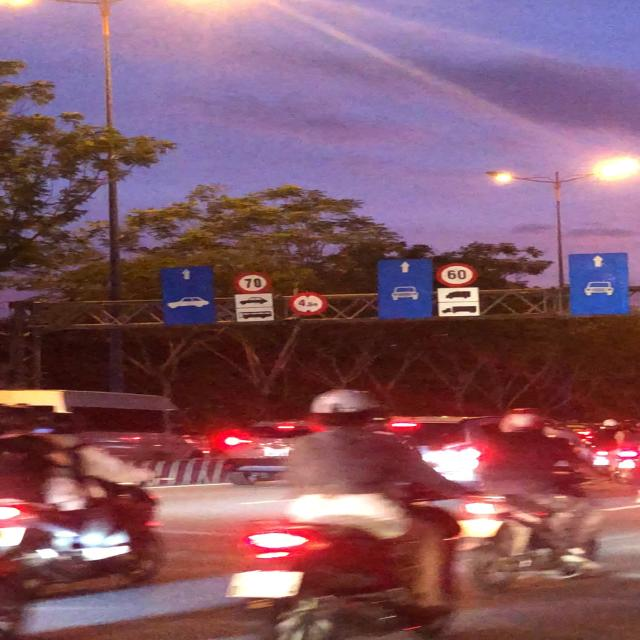Bien bao han che chieu cao: (282, 290, 331, 318)
Bien bao toc do toi da cho phep: (430, 260, 481, 289), (232, 268, 274, 295)
